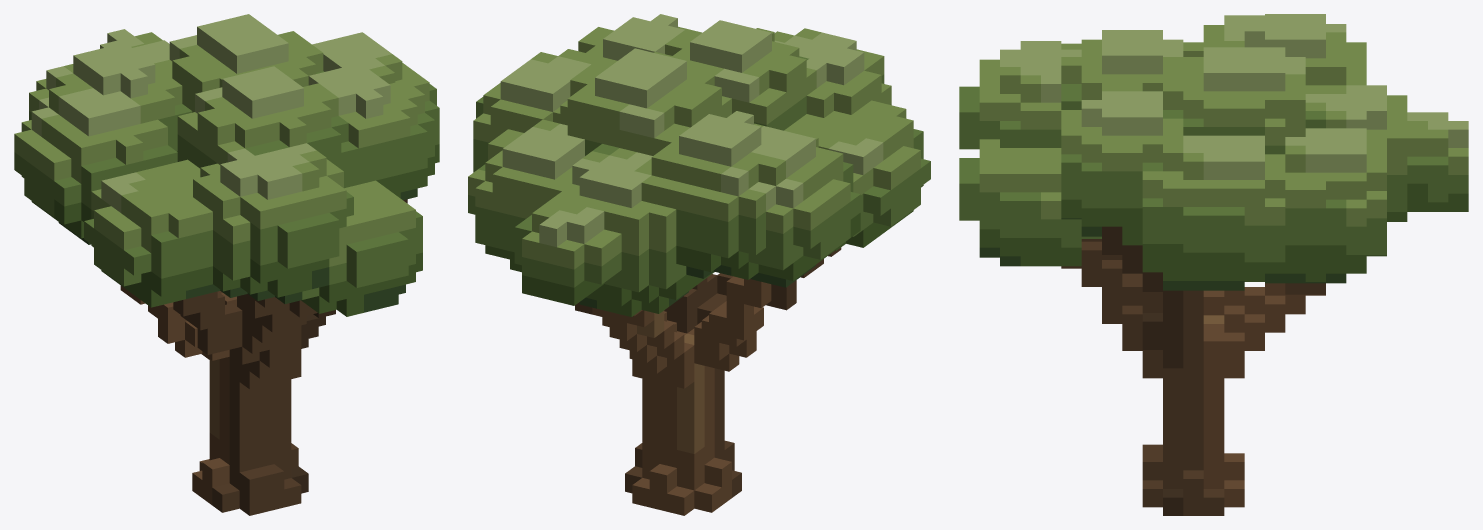
The model's file is oak_ancient_spring_2.glb.
3 views of the same model, side by side, from view 1: azimuth 30°, elevation 25°; view 2: azimuth 150°, elevation 25°; view 3: azimuth 270°, elevation 25° (orthographic). The views are drawn at different scales.
Visible parts, largest first — view 1: oak_ancient_spring_2; view 2: oak_ancient_spring_2; view 3: oak_ancient_spring_2.
Boxes of the visible parts, bbox=[...] form: oak_ancient_spring_2: bbox=[14, 14, 439, 515]; oak_ancient_spring_2: bbox=[468, 14, 930, 515]; oak_ancient_spring_2: bbox=[959, 14, 1468, 515].
Size of the model in its own units: 21 by 24 by 25.
